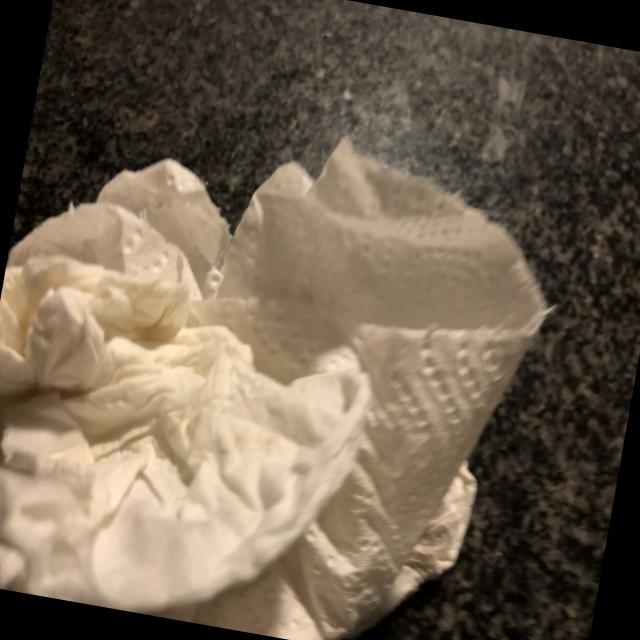organic waste: (0, 79, 581, 640), (0, 198, 392, 640)
